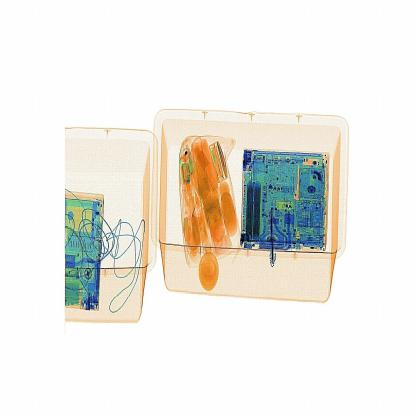knife: (265, 209, 280, 269)
